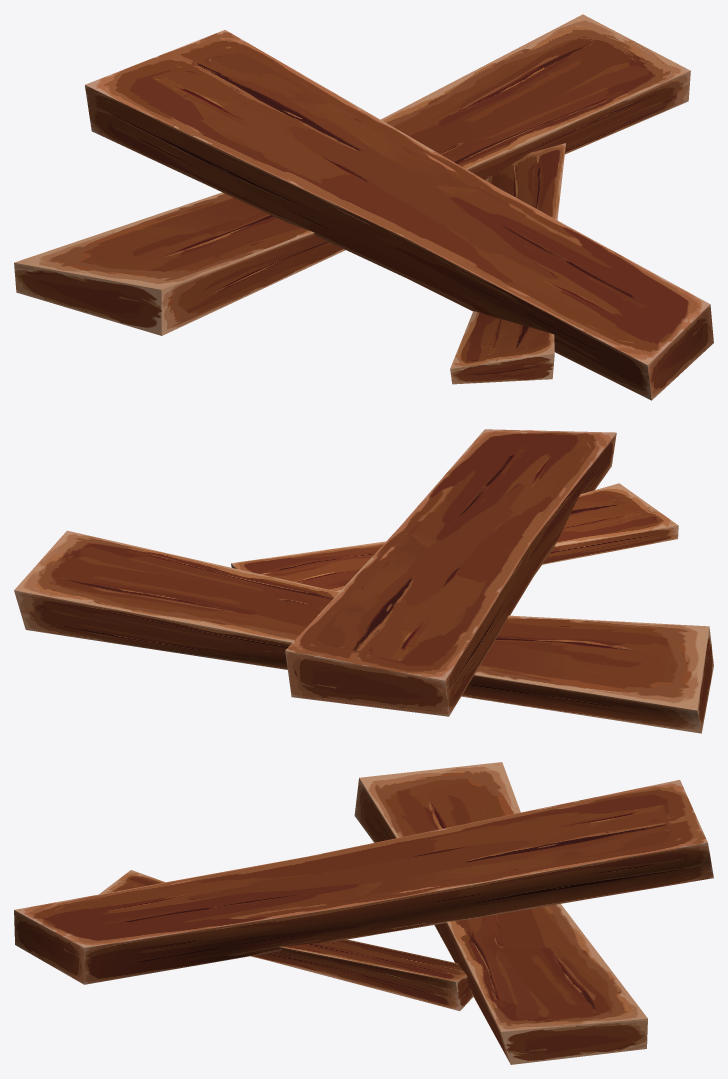
File: SM_PROP_planks_02.fbx
The picture shows the model from 3 angles, top to bottom: view 1: azimuth 30°, elevation 25°; view 2: azimuth 150°, elevation 25°; view 3: azimuth 270°, elevation 25°; orthographic projection. The views are drawn at different scales.
Parts seen in each view (by area): view 1: SM_PROP_planks_02; view 2: SM_PROP_planks_02; view 3: SM_PROP_planks_02.
Part boxes in pixels (x1,y1,x2,y2): SM_PROP_planks_02: [14, 14, 713, 400]; SM_PROP_planks_02: [14, 429, 713, 733]; SM_PROP_planks_02: [14, 762, 713, 1064].
Bounding box in the file's own units: 190 × 26.36 × 190.
